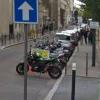Motorcycle: (20, 36, 74, 85)
